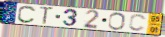2: (83, 9, 101, 30)
3: (62, 8, 79, 28)
C: (127, 13, 147, 33), (16, 5, 37, 24)
O: (107, 12, 126, 31)
T: (39, 5, 55, 25)
